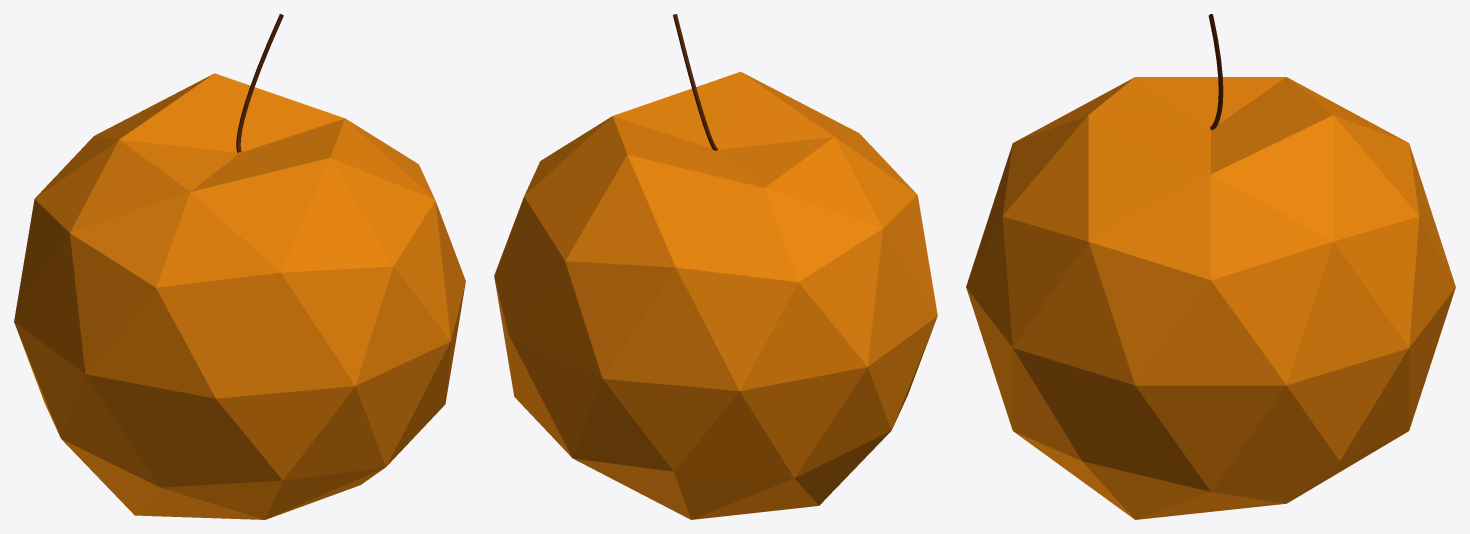
Rendered from golden_apple.fbx.
The picture shows the model from 3 angles, left to right: view 1: azimuth 30°, elevation 25°; view 2: azimuth 150°, elevation 25°; view 3: azimuth 270°, elevation 25°; orthographic projection. The views are drawn at different scales.
Parts seen in each view (by area): view 1: Apple, Stem; view 2: Apple, Stem; view 3: Apple, Stem.
Part boxes in pixels (<box>): Apple: <box>14,73,465,519</box>; Stem: <box>236,14,283,152</box>; Apple: <box>494,71,937,519</box>; Stem: <box>673,14,717,150</box>; Apple: <box>966,77,1455,519</box>; Stem: <box>1208,14,1223,130</box>.
Bounding box in the file's own units: 190 × 222 × 200.
